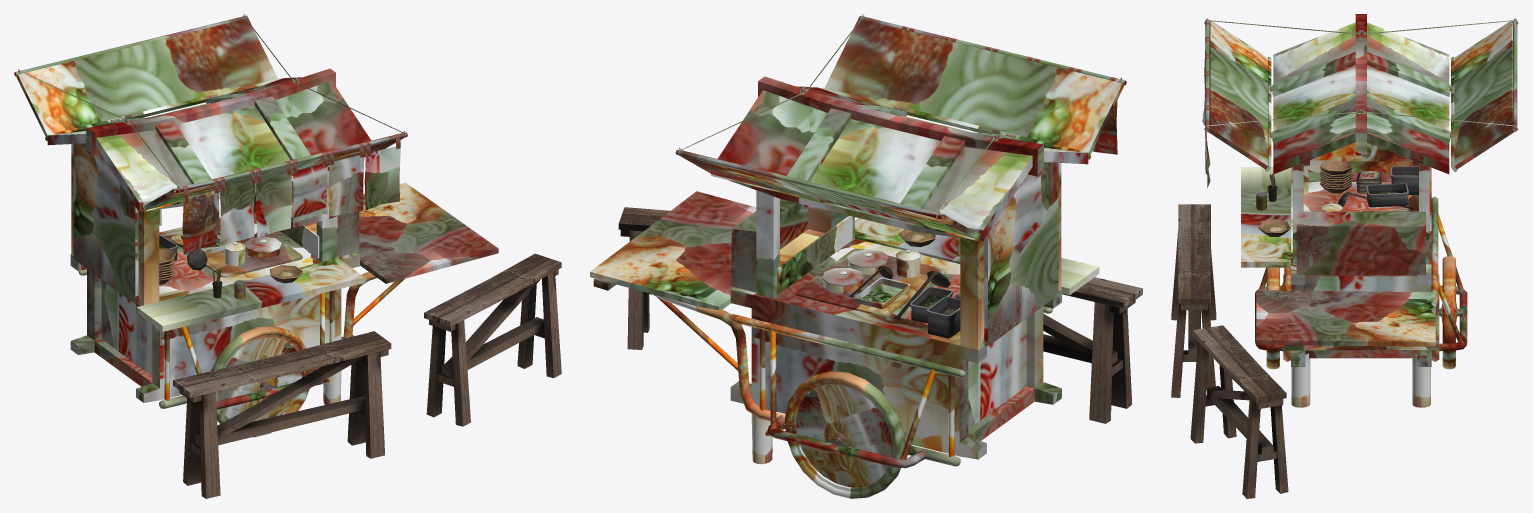
3 renders of one model, left to right at view 1: azimuth 30°, elevation 25°; view 2: azimuth 150°, elevation 25°; view 3: azimuth 270°, elevation 25°, orthographic. The views are drawn at different scales.
Parts seen in each view (by area): view 1: SM_Yatai_Material #0_0_8, SM_Yatai-bench_Material #44_0_4, SM_yatai-bench2_Material #44_0_10, SM_yatai-props_Material #1_0_6; view 2: SM_Yatai_Material #0_0_8, SM_Yatai-bench_Material #44_0_4, SM_yatai-props_Material #1_0_6, SM_yatai-bench2_Material #44_0_10; view 3: SM_Yatai_Material #0_0_8, SM_yatai-bench2_Material #44_0_10, SM_Yatai-bench_Material #44_0_4, SM_yatai-props_Material #1_0_6.
Part boxes in pixels (left/top/right/bottom): SM_Yatai_Material #0_0_8: left=14, top=14, right=498, bottom=437; SM_Yatai-bench_Material #44_0_4: left=173, top=331, right=391, bottom=498; SM_yatai-bench2_Material #44_0_10: left=424, top=253, right=561, bottom=426; SM_yatai-props_Material #1_0_6: left=159, top=232, right=302, bottom=299; SM_Yatai_Material #0_0_8: left=590, top=14, right=1126, bottom=498; SM_Yatai-bench_Material #44_0_4: left=1043, top=277, right=1142, bottom=423; SM_yatai-props_Material #1_0_6: left=849, top=229, right=960, bottom=338; SM_yatai-bench2_Material #44_0_10: left=618, top=207, right=670, bottom=349; SM_Yatai_Material #0_0_8: left=1202, top=14, right=1518, bottom=407; SM_yatai-bench2_Material #44_0_10: left=1190, top=325, right=1288, bottom=498; SM_Yatai-bench_Material #44_0_4: left=1171, top=204, right=1216, bottom=397; SM_yatai-props_Material #1_0_6: left=1256, top=160, right=1418, bottom=236.
Bounding box in the file's own units: 12.27 × 8.52 × 9.15.
